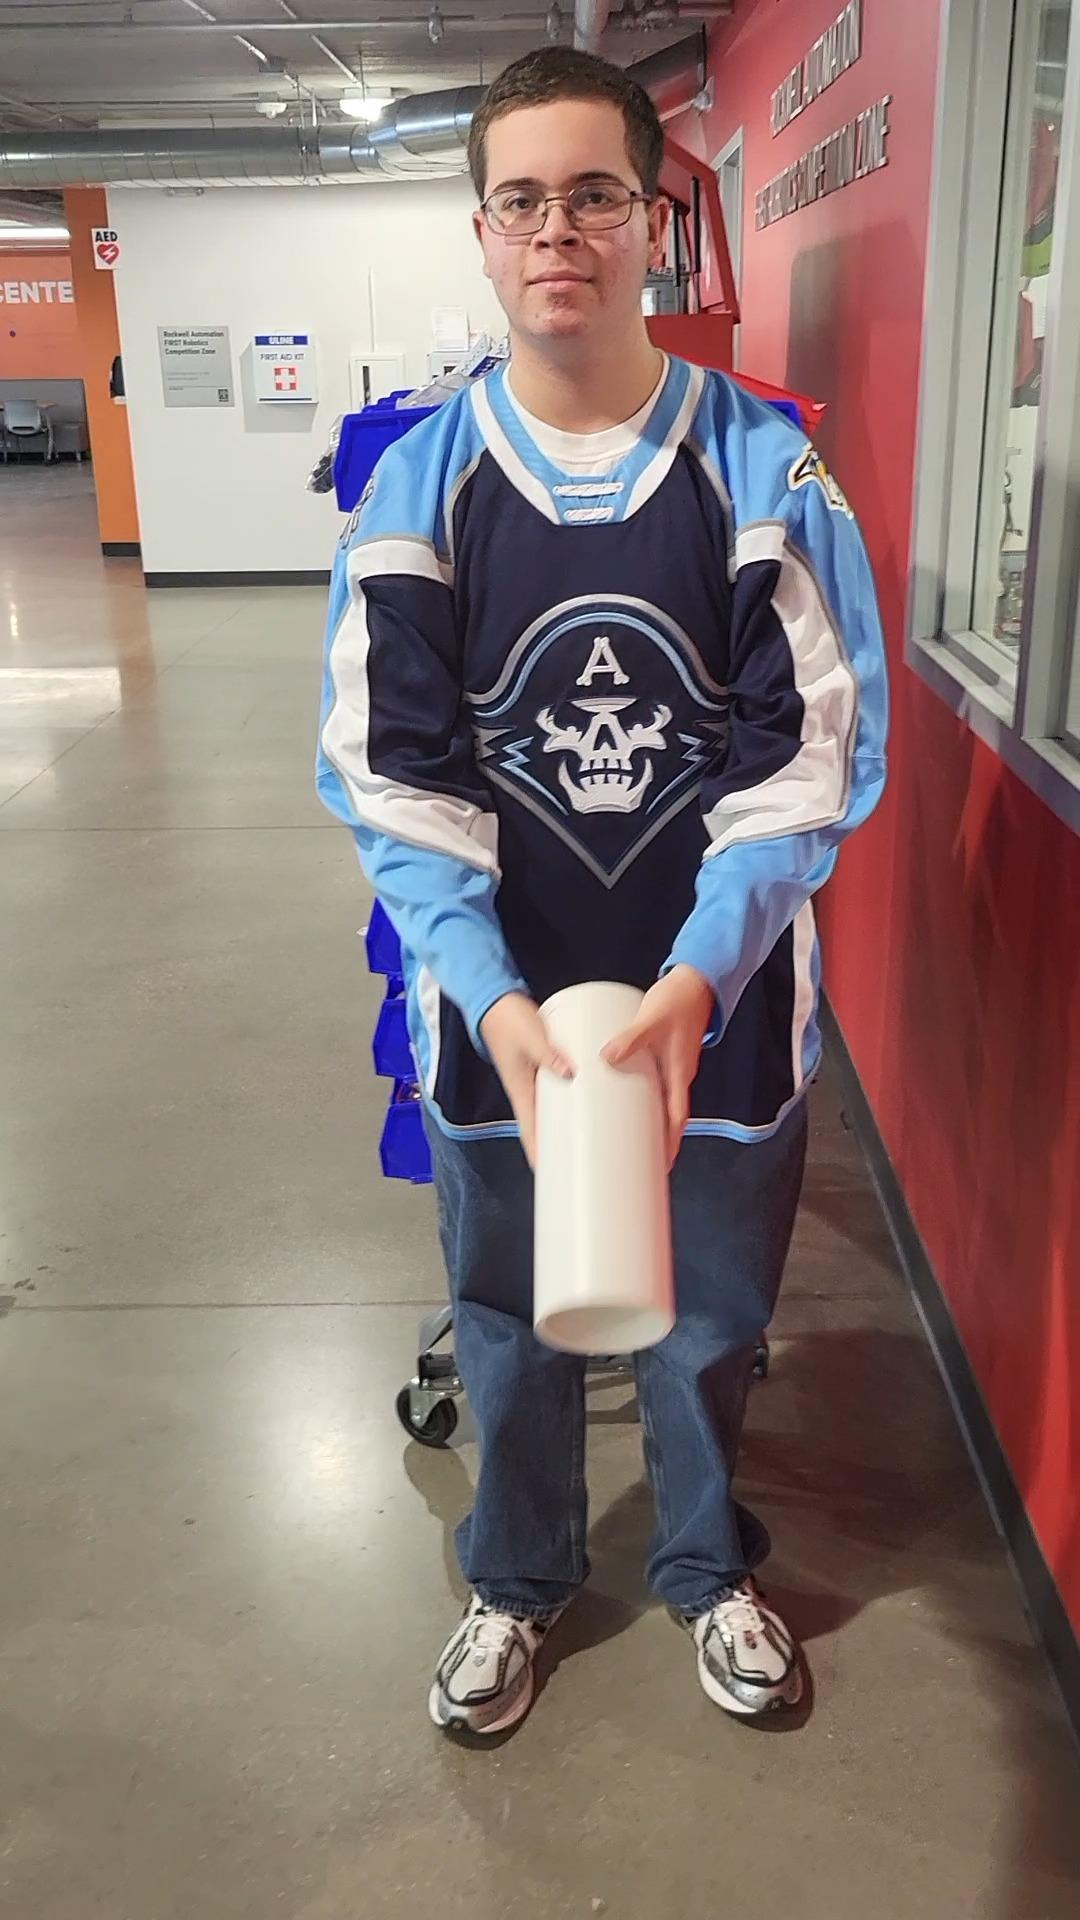coral: (526, 971, 680, 1360)
